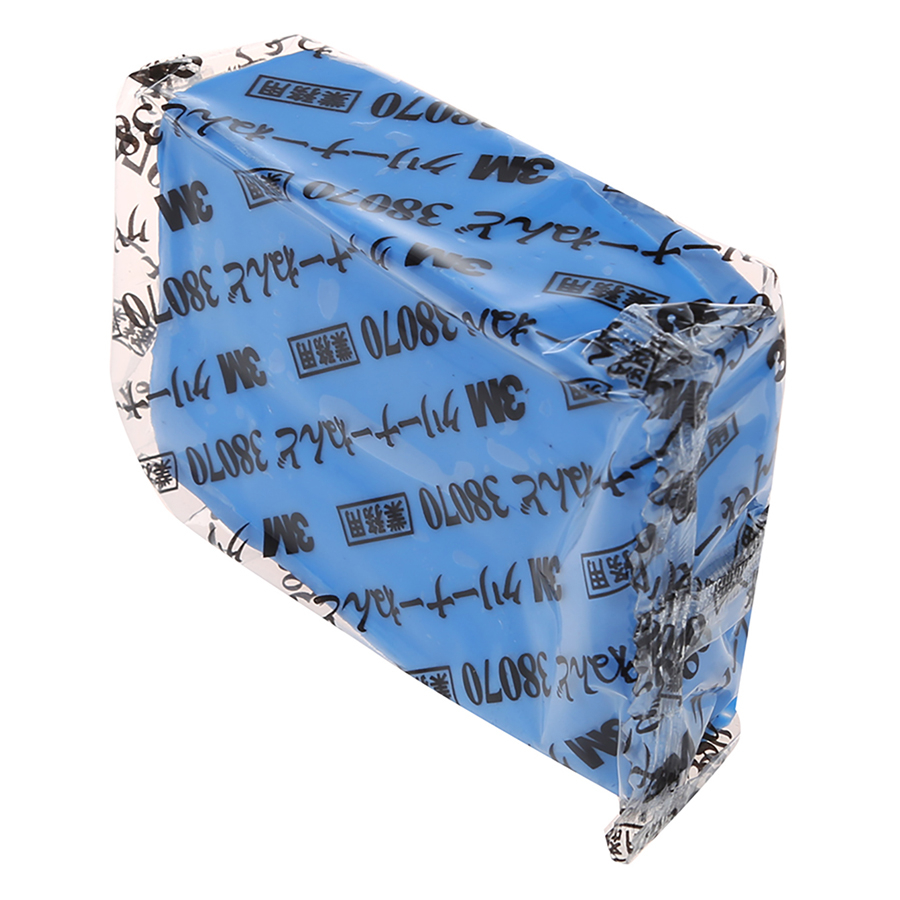3M: (461, 368, 542, 431), (464, 136, 553, 191), (145, 179, 224, 239), (260, 504, 322, 562), (213, 340, 274, 392), (520, 547, 569, 609)
